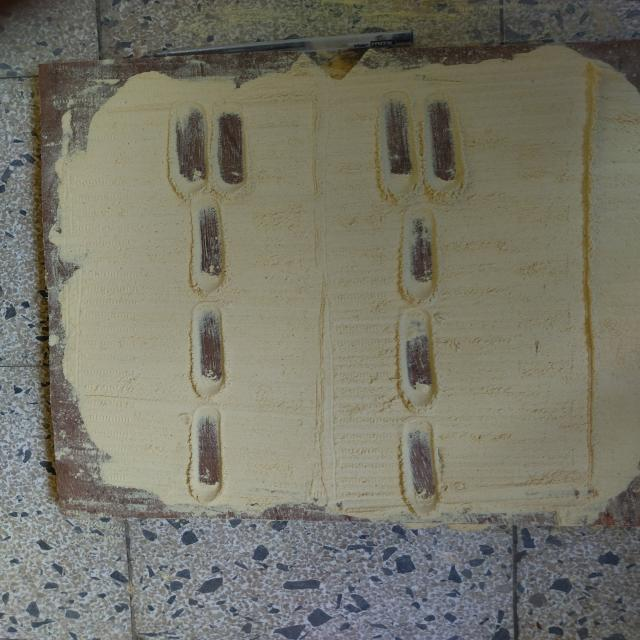double: (368, 92, 474, 204), (160, 94, 257, 198)
single: (390, 413, 450, 522), (392, 301, 446, 414), (180, 190, 235, 299), (394, 202, 446, 306), (182, 298, 235, 399), (183, 397, 230, 509)
